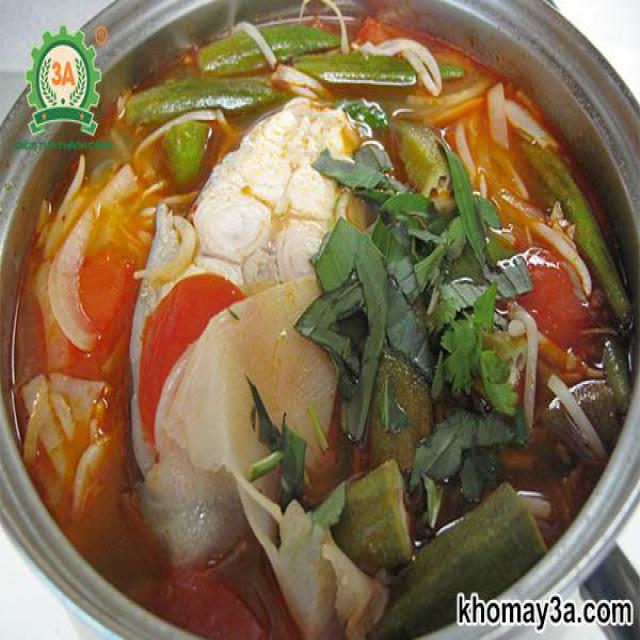canh chua: (11, 0, 631, 638)
